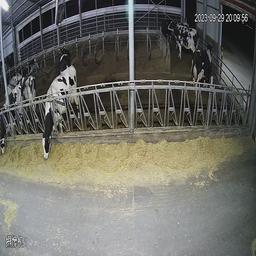cow: (40, 61, 87, 167), (1, 83, 33, 160), (189, 42, 220, 94), (169, 17, 199, 60), (57, 45, 74, 74)
